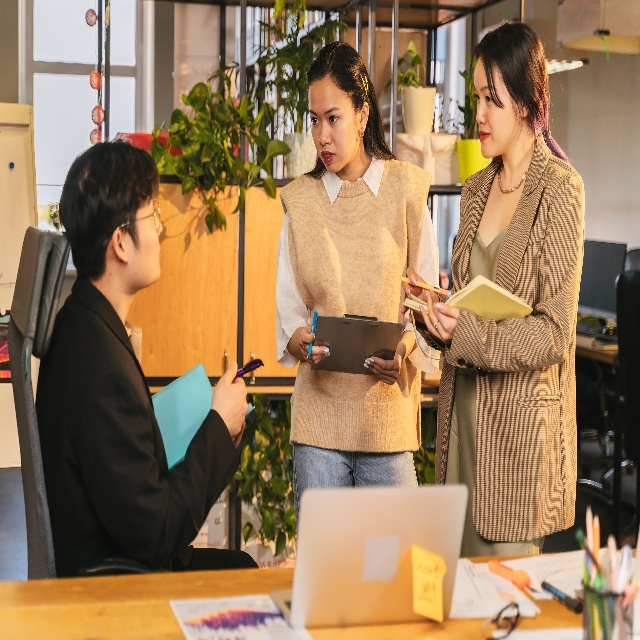Gafas: (103, 198, 160, 248)
Sin_guantes: (211, 361, 249, 437), (400, 268, 438, 324), (419, 291, 459, 342), (363, 348, 403, 386), (298, 325, 331, 366)
